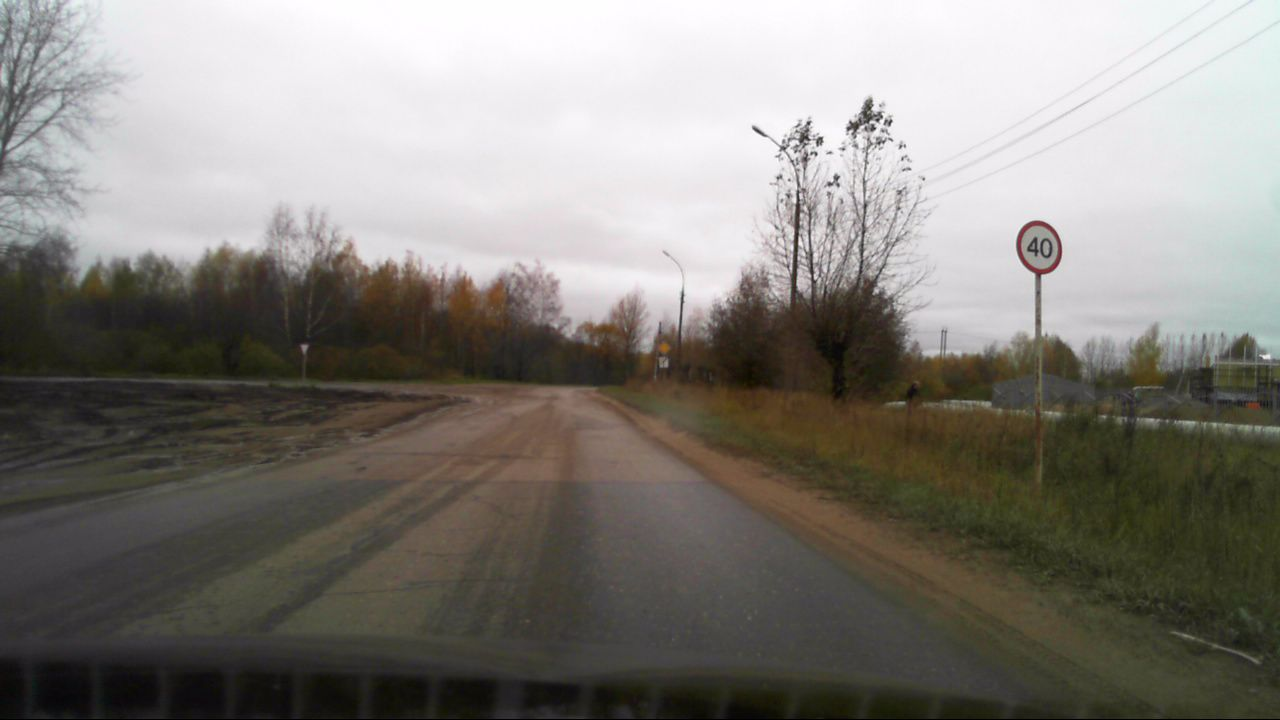speed_warning_40: (1015, 219, 1063, 276)
